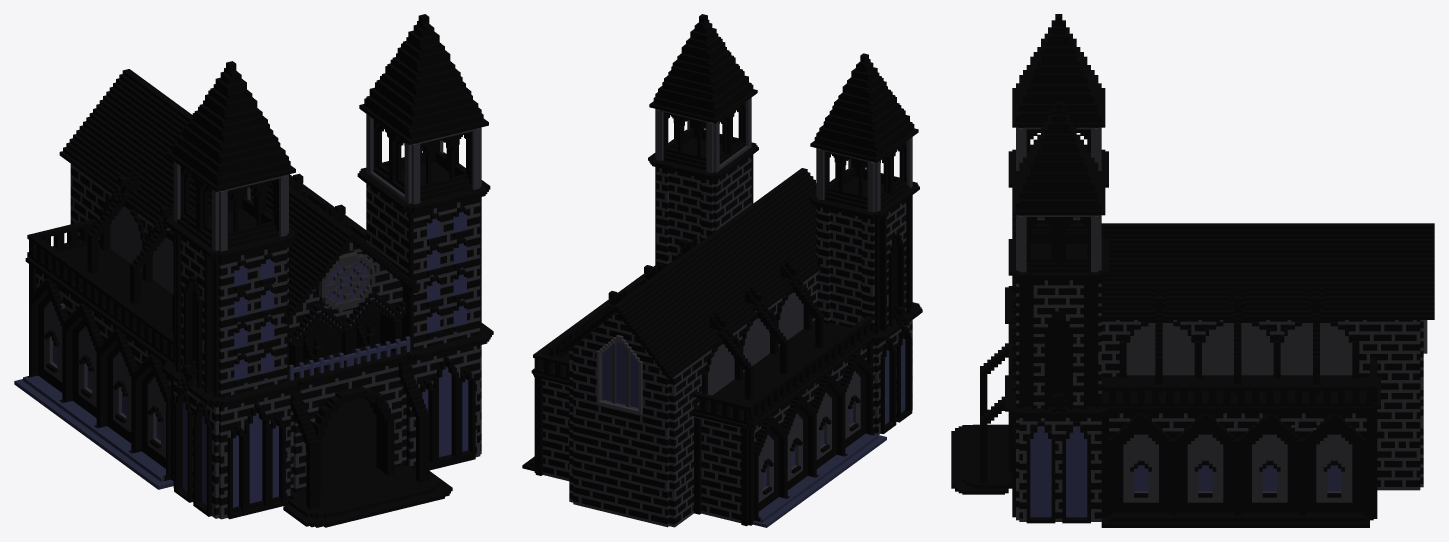
The model's file is Church.fbx.
3 renders of one model, left to right at view 1: azimuth 30°, elevation 25°; view 2: azimuth 150°, elevation 25°; view 3: azimuth 270°, elevation 25°, orthographic. The views are drawn at different scales.
Visible parts, largest first — view 1: ch_iso; view 2: ch_iso; view 3: ch_iso.
Boxes of the visible parts, <box> form: ch_iso: <box>14,14,493,527</box>; ch_iso: <box>522,14,922,527</box>; ch_iso: <box>951,14,1434,527</box>.
Size of the model in its own units: 880 by 1240 by 1350.
1 material, 1 textured.
